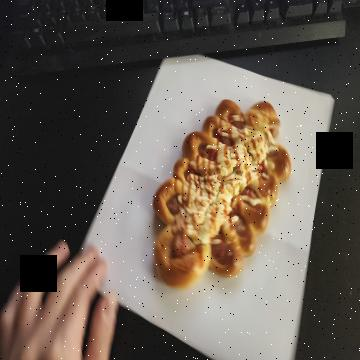pizza_bread: (151, 99, 292, 290)
